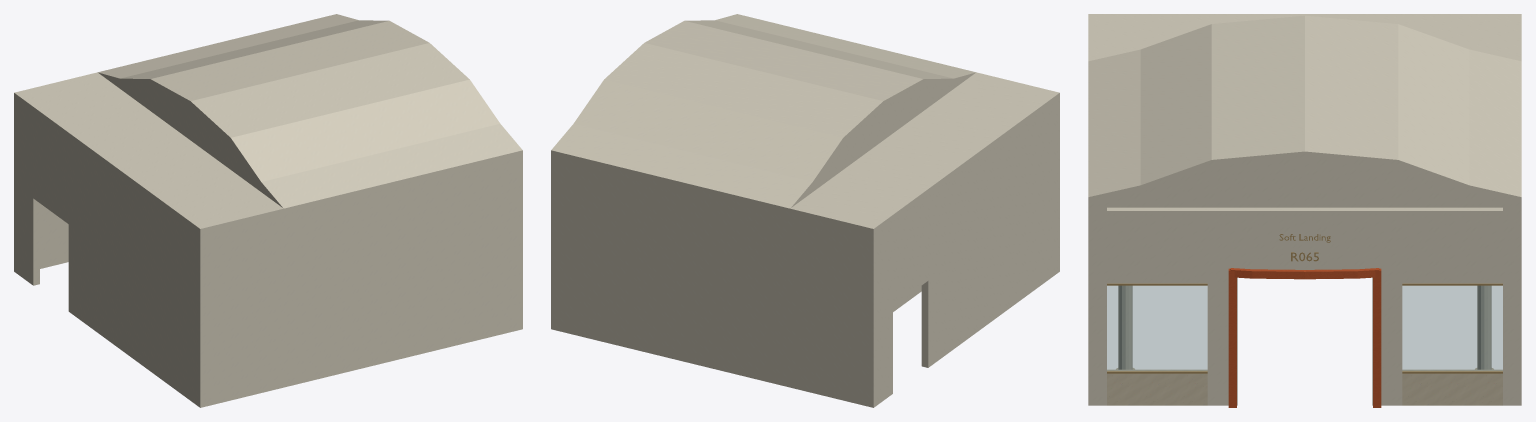
File: SHOP_D09_S72_A106__shell.glb
The picture shows the model from 3 angles, left to right: view 1: azimuth 30°, elevation 25°; view 2: azimuth 150°, elevation 25°; view 3: azimuth 270°, elevation 25°; orthographic projection. The views are drawn at different scales.
Parts seen in each view (by area): view 1: SHOP_D09_S72_A106__shell__ivory_enamel; view 2: SHOP_D09_S72_A106__shell__ivory_enamel; view 3: SHOP_D09_S72_A106__shell__ivory_enamel, SHOP_D09_S72_A106__shell__shop_glass, SHOP_D09_S72_A106__shell__warm_stone, SHOP_D09_S72_A106__shell__retail_terracotta_enamel, SHOP_D09_S72_A106__shell__champagne_metal.
Boxes of the visible parts, x1,y1,x2,y2 form: SHOP_D09_S72_A106__shell__ivory_enamel: (14,14,522,407); SHOP_D09_S72_A106__shell__ivory_enamel: (551,14,1059,407); SHOP_D09_S72_A106__shell__ivory_enamel: (1088,14,1521,405); SHOP_D09_S72_A106__shell__shop_glass: (1107,286,1502,370); SHOP_D09_S72_A106__shell__warm_stone: (1107,368,1502,405); SHOP_D09_S72_A106__shell__retail_terracotta_enamel: (1228,268,1381,407); SHOP_D09_S72_A106__shell__champagne_metal: (1107,234,1502,373).
Size of the model in its own units: 11.86 by 7.5 by 11.6.
6 materials, 4 textured.
